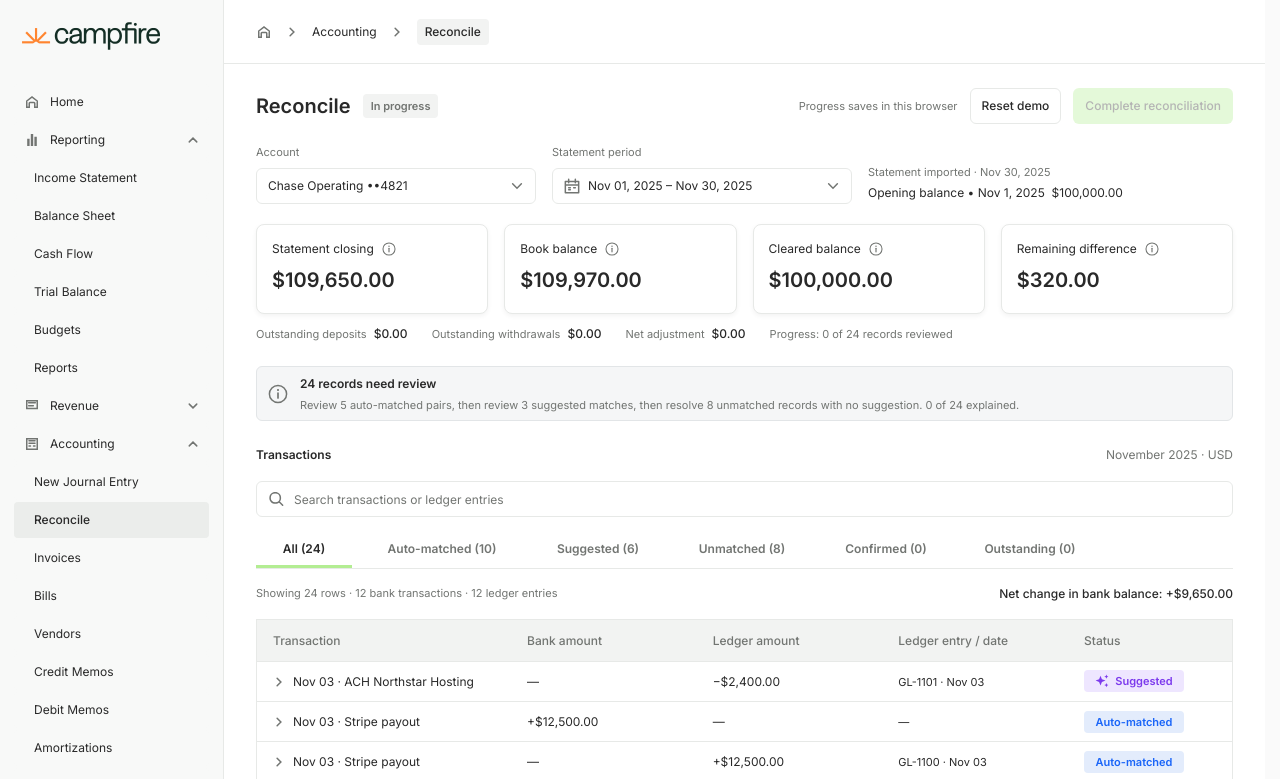
Test: Reconciliation prototype › blocks completion and lists the reasons
Click the button "Complete reconciliation": (1153, 106) [1073,88,1233,124]
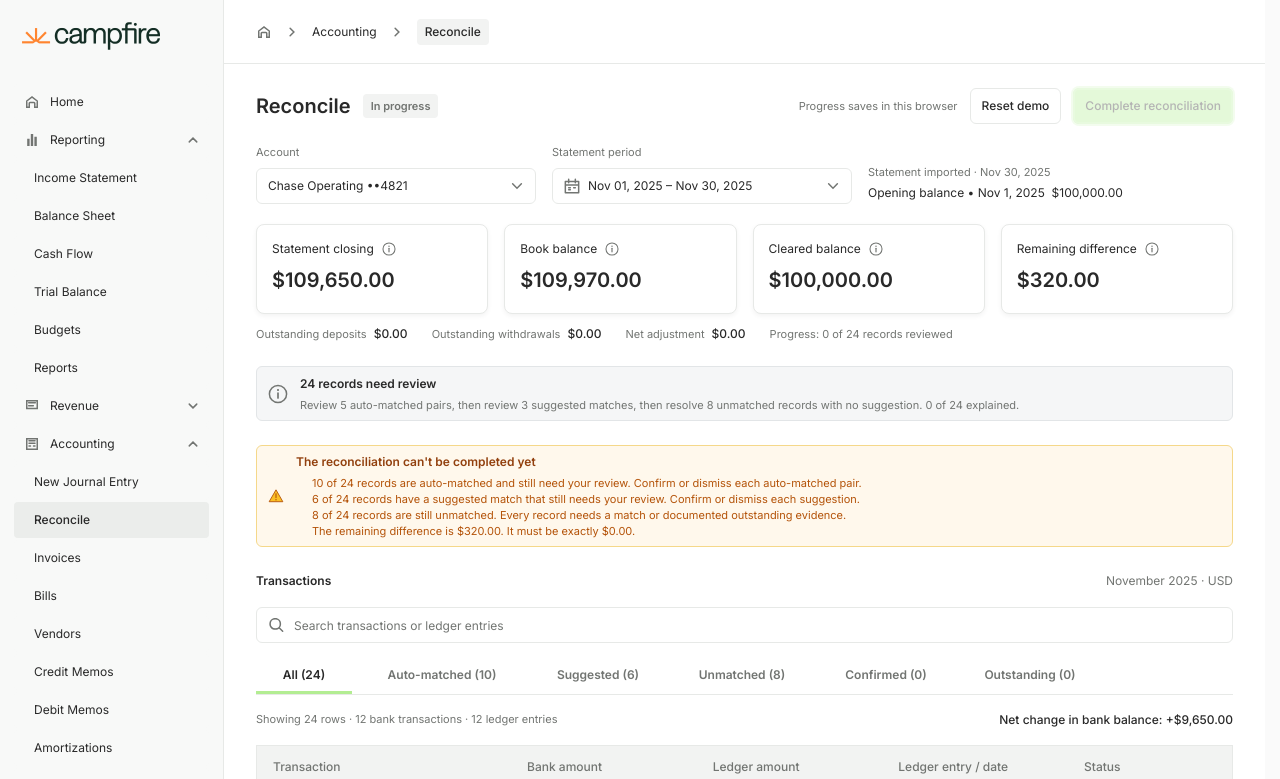
Check: the message shows "10 of 24 records are auto-matched and still need your review", box [312,476,862,490]
Check: the message shows "6 of 24 records have a suggested match that still needs your review", box [312,492,860,506]
Check: the message shows "8 of 24 records are still unmatched", box [312,508,846,522]
